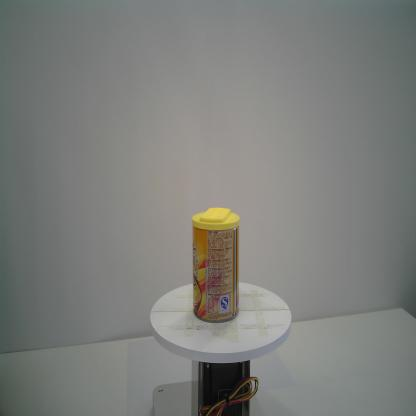Canned Food: (192, 208, 240, 324)
